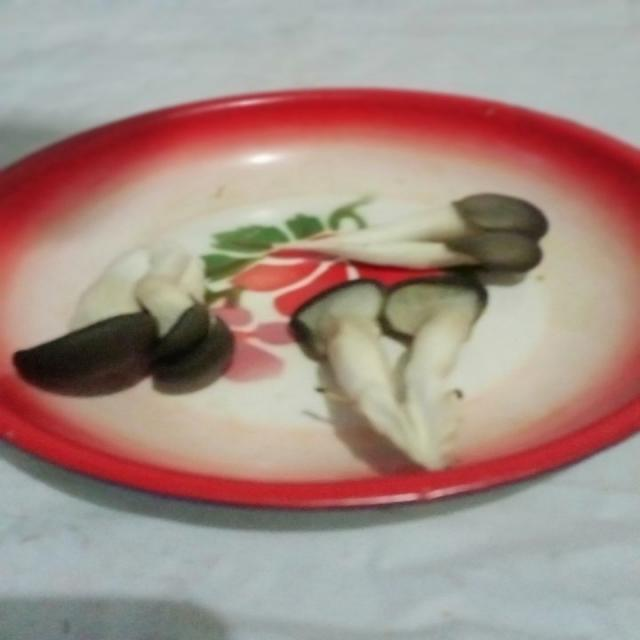Pleurotus ostreatus: (292, 279, 485, 473), (15, 245, 230, 402), (262, 194, 551, 274)
